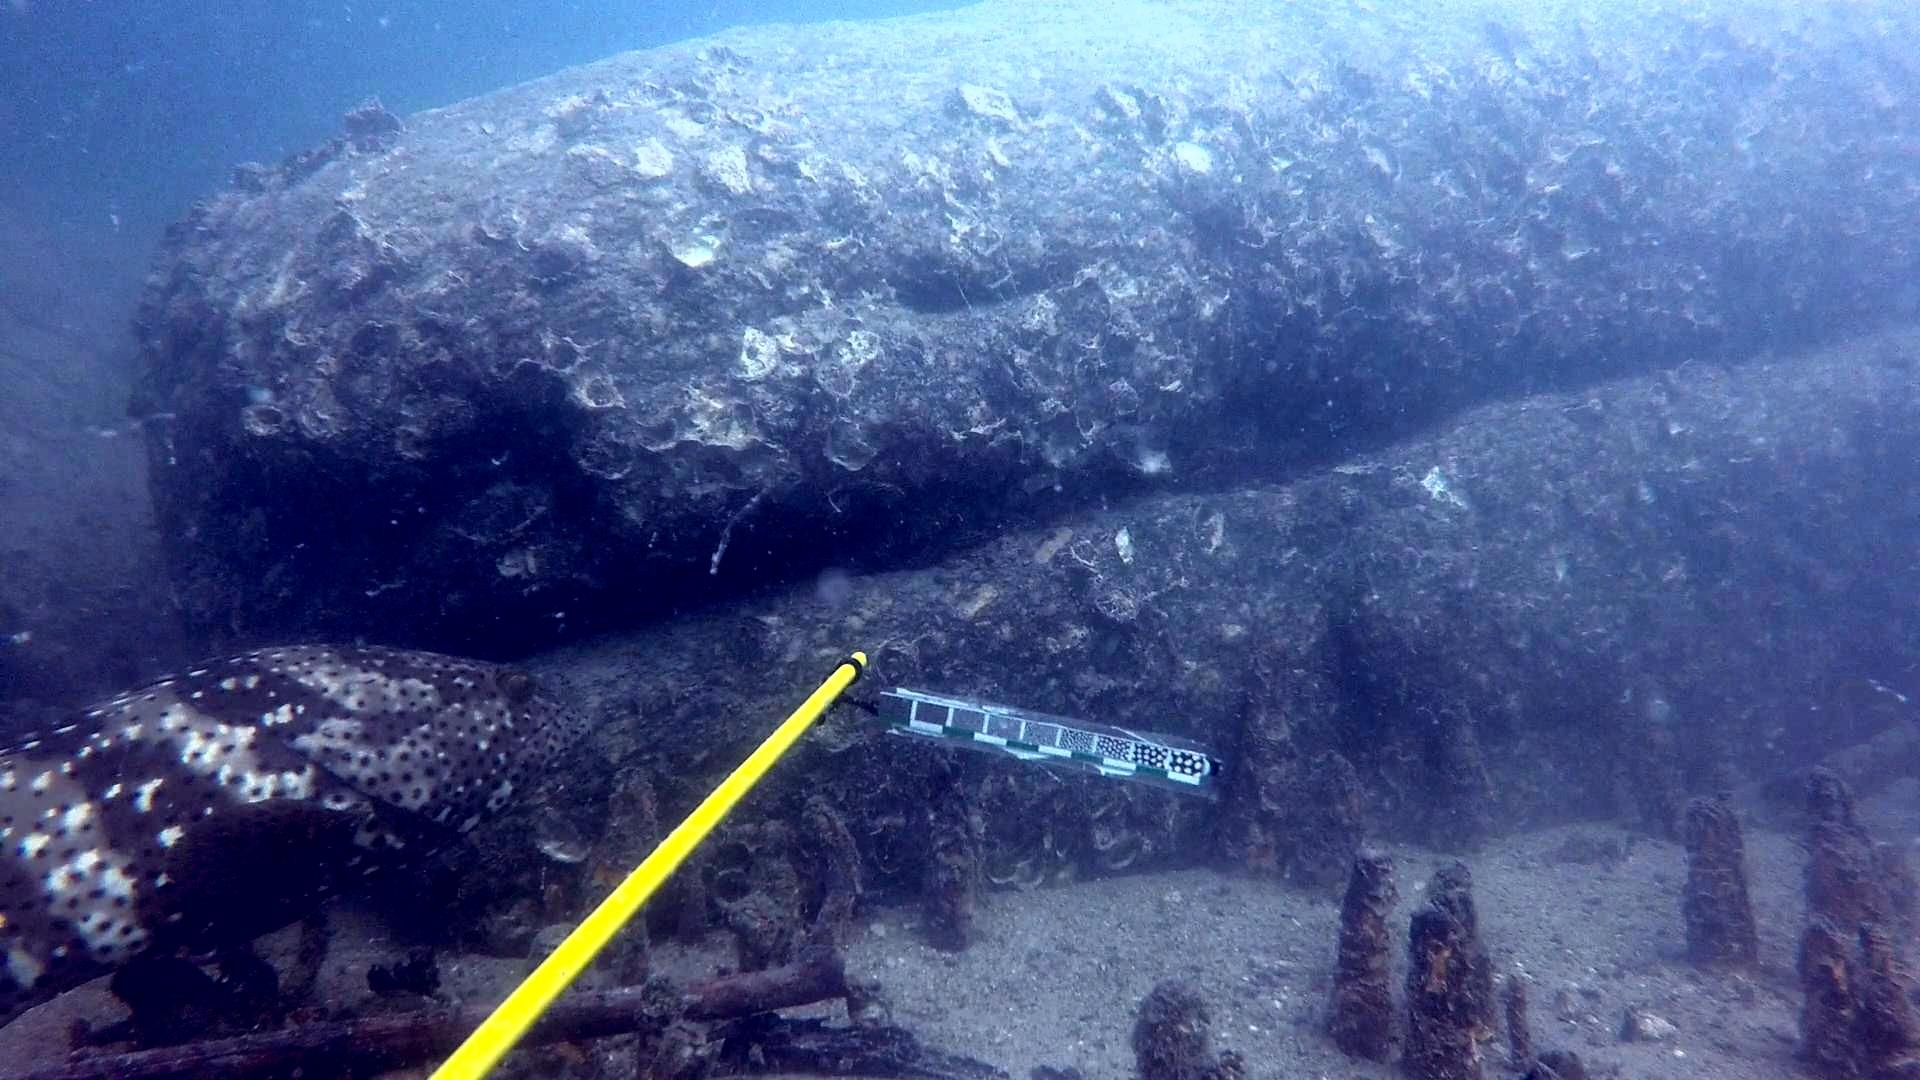epinephelus: (0, 638, 606, 1037)
